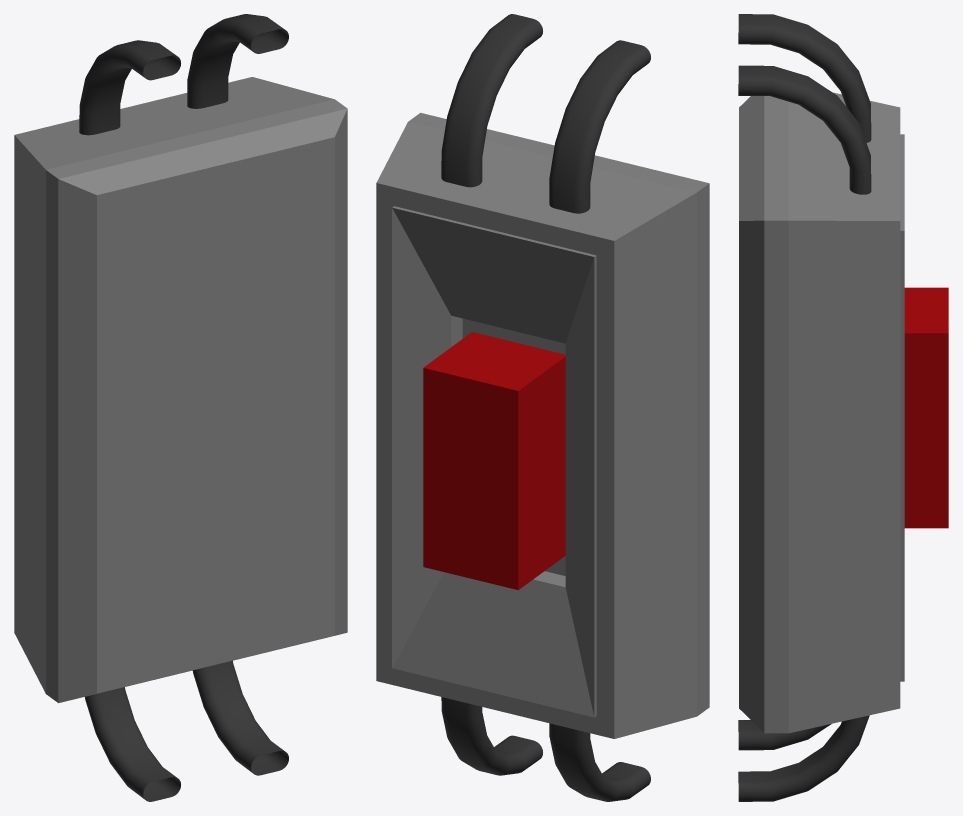
Rendered from button.fbx.
3 renders of one model, left to right at view 1: azimuth 30°, elevation 25°; view 2: azimuth 150°, elevation 25°; view 3: azimuth 270°, elevation 25°, orthographic. The views are drawn at different scales.
Visible parts, largest first — view 1: Cube.001, Arc; view 2: Cube.001, Cube, Arc; view 3: Cube.001, Arc, Cube.
Boxes of the visible parts, <box> form: Cube.001: <box>14,77,347,703</box>; Arc: <box>79,14,288,801</box>; Cube.001: <box>376,112,709,738</box>; Cube: <box>423,332,565,590</box>; Arc: <box>441,14,650,801</box>; Cube.001: <box>739,92,904,733</box>; Arc: <box>738,14,871,801</box>; Cube: <box>904,287,948,528</box>.
Bounding box in the file's own units: 0.3037 × 0.7444 × 0.1953.
